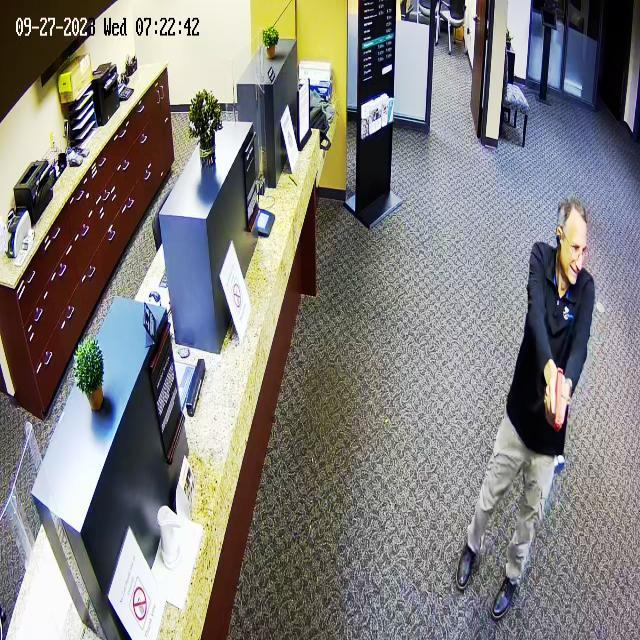Gun: (545, 361, 590, 447)
